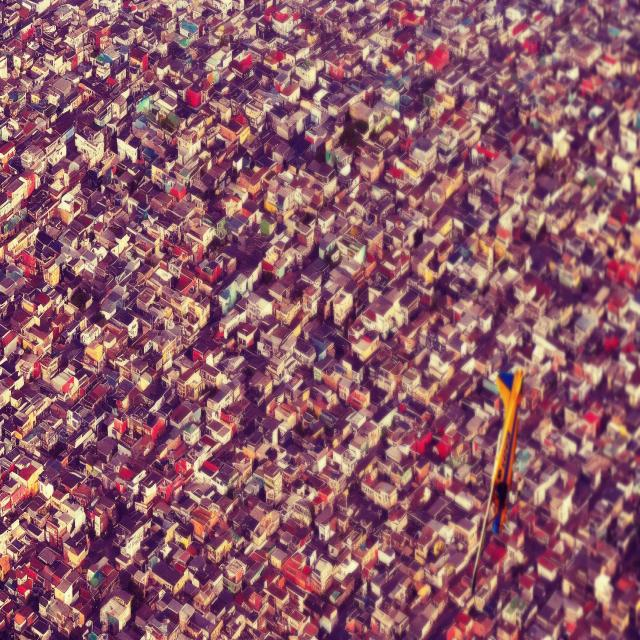airplane: (470, 369, 526, 593)
